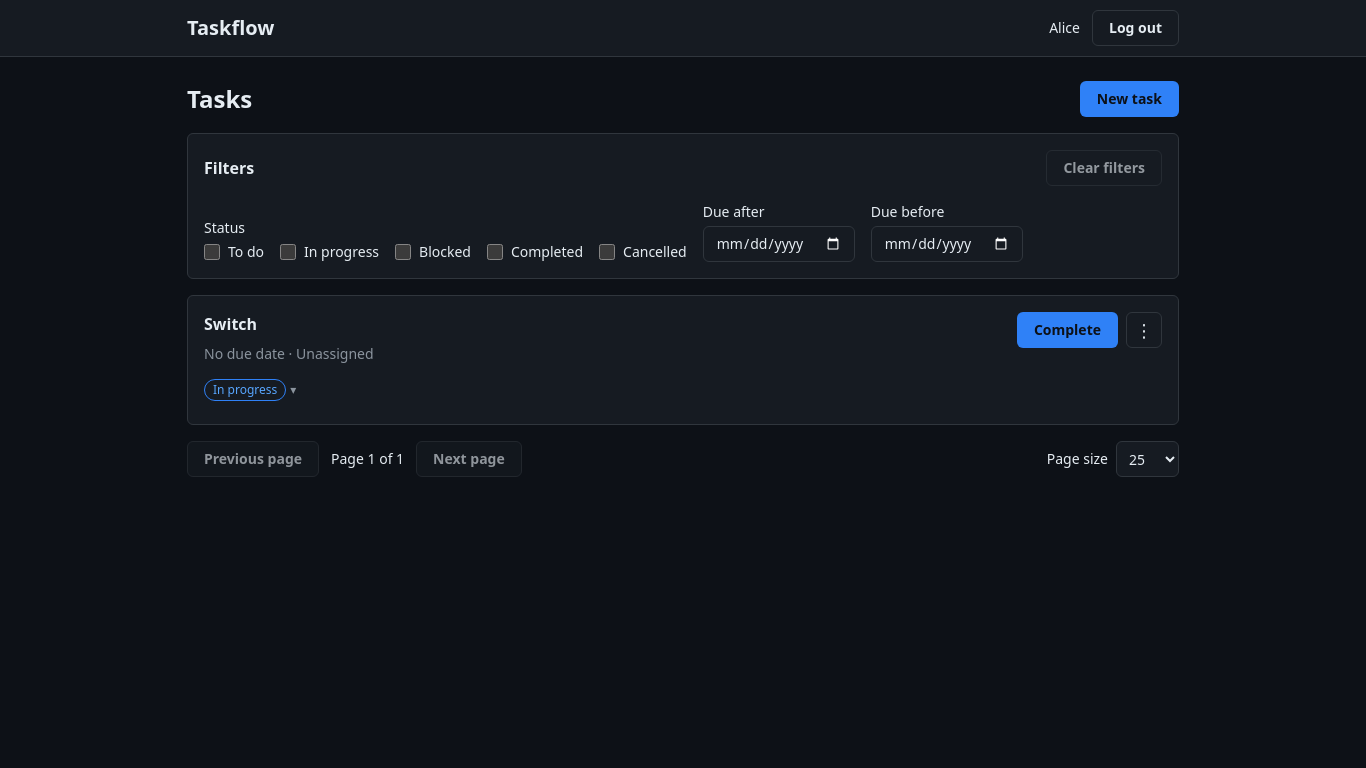
Test case: status tag menu › test_ac05_the_tag_shows_a_caret_and_lists_the_other_statuses_except_completed
Expected: the text "▾" is shown, [290,382,296,398]
Click the button with aria-label "change status" at (250, 390), box [204,372,296,408]
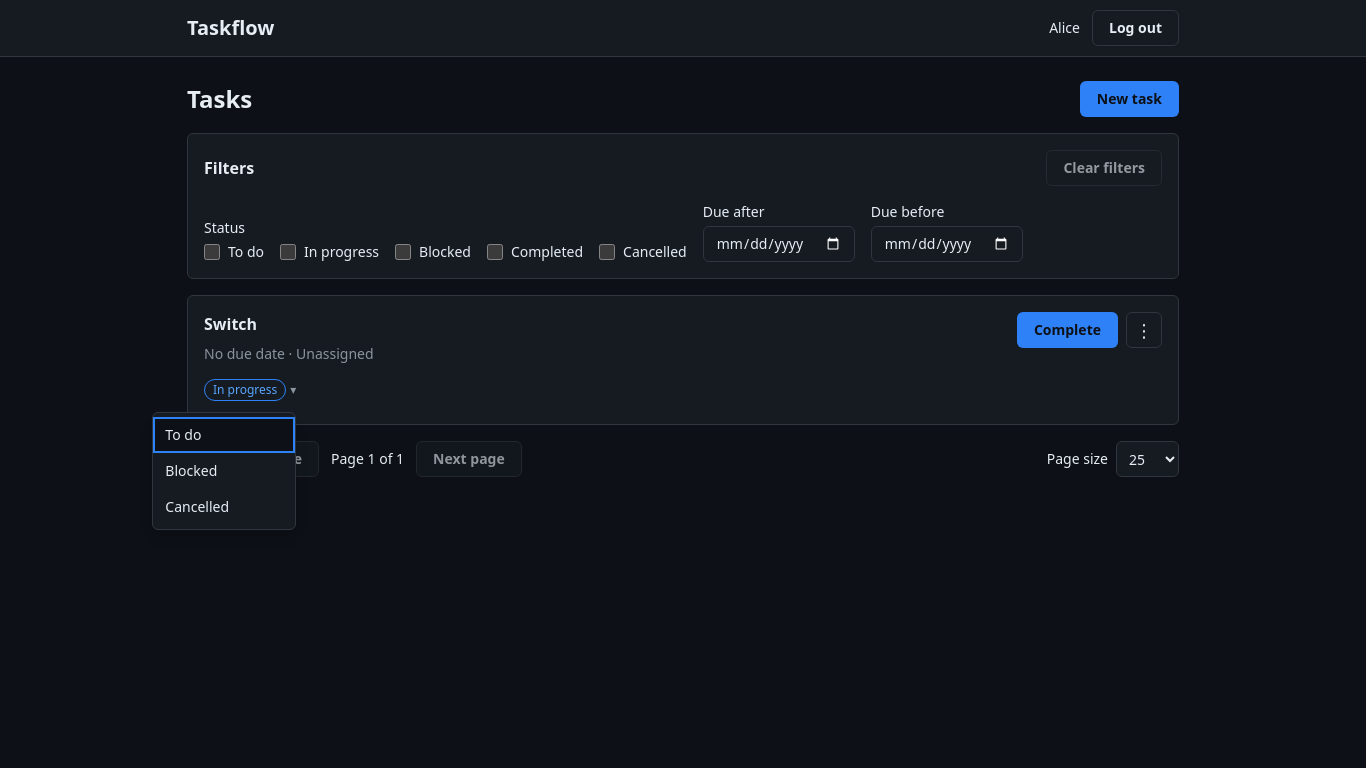
Now the menu items read "To do", "Blocked", "Cancelled", in this order, box [153,417,295,453]; [153,453,295,489]; [153,489,295,525]
